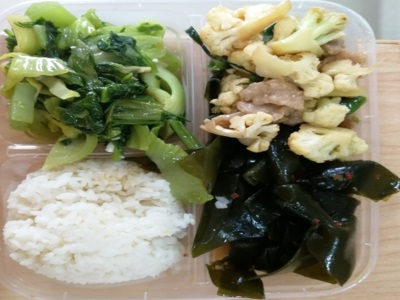cch: (214, 11, 352, 142)
cyc: (13, 12, 178, 150)
hd: (217, 153, 347, 280)
rice: (10, 171, 178, 279)
